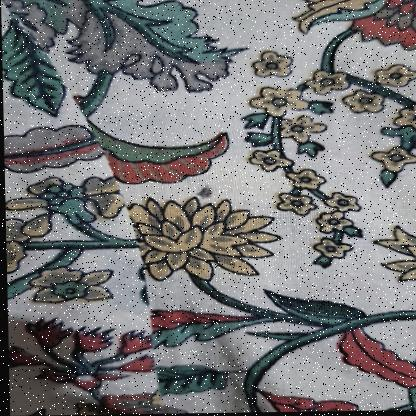spot: (189, 185, 219, 204)
